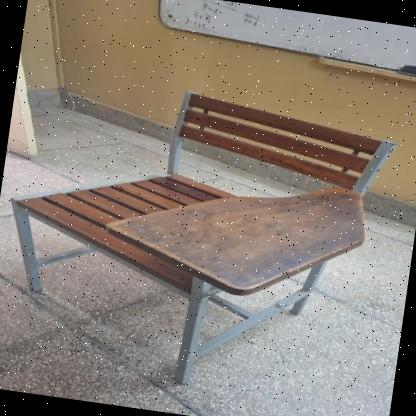chair: (0, 58, 403, 415)
